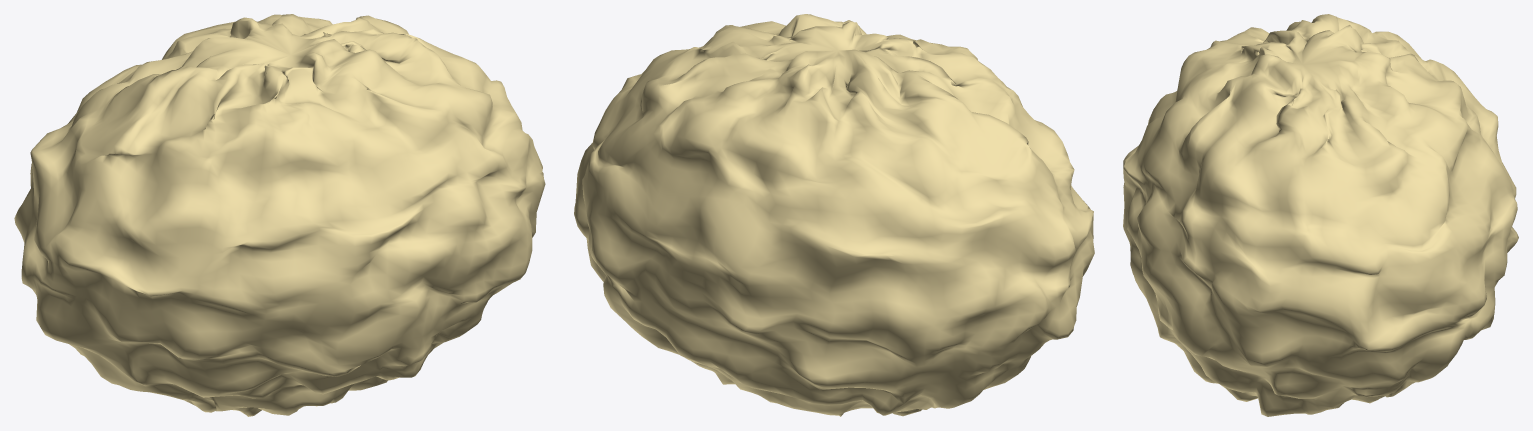
The model's file is Papa.fbx.
The picture shows the model from 3 angles, left to right: view 1: azimuth 30°, elevation 25°; view 2: azimuth 150°, elevation 25°; view 3: azimuth 270°, elevation 25°; orthographic projection. The views are drawn at different scales.
Parts seen in each view (by area): view 1: Papa; view 2: Papa; view 3: Papa.
Boxes of the visible parts, x1=… form: Papa: x1=14, y1=14, x2=545, y2=416; Papa: x1=574, y1=14, x2=1094, y2=416; Papa: x1=1123, y1=14, x2=1518, y2=416.
Bounding box in the file's own units: 94.36 × 67.23 × 71.89.
